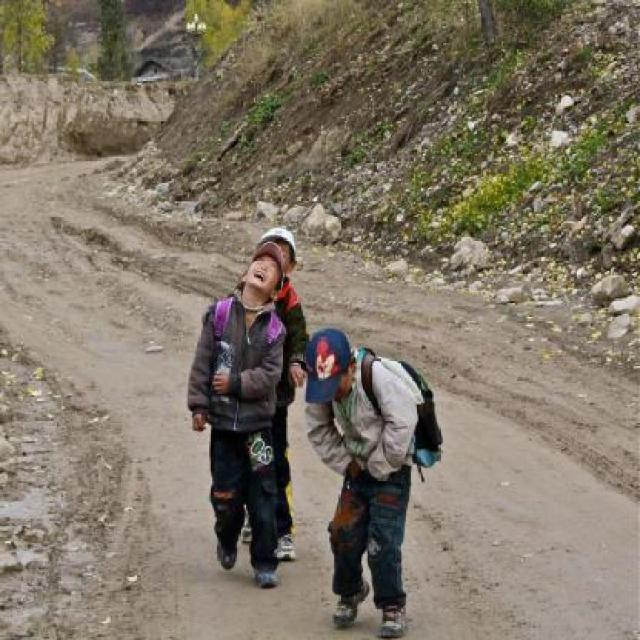backpack: (392, 356, 446, 478), (211, 296, 234, 342), (266, 312, 282, 352)
